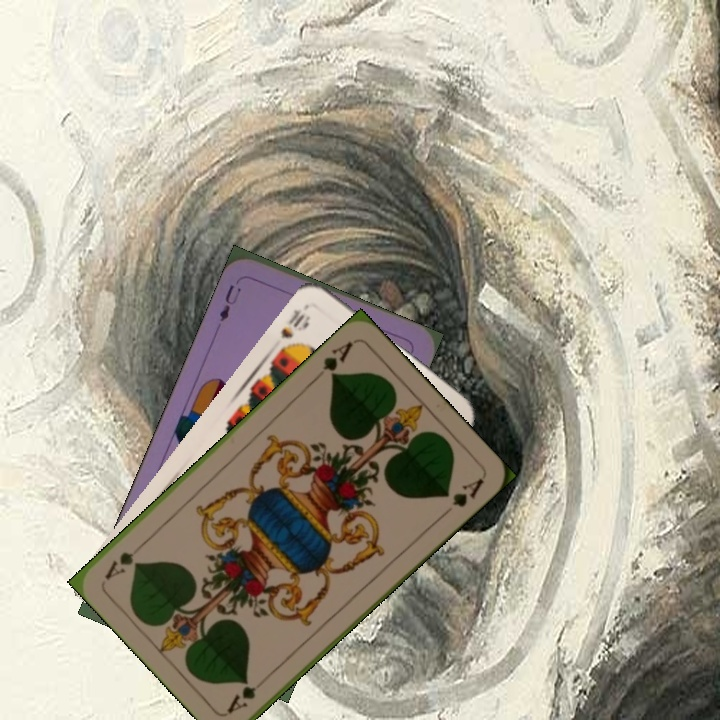EU: (215, 280, 244, 324)
GA: (310, 337, 356, 383), (223, 673, 272, 716)
S10: (275, 301, 313, 355)
